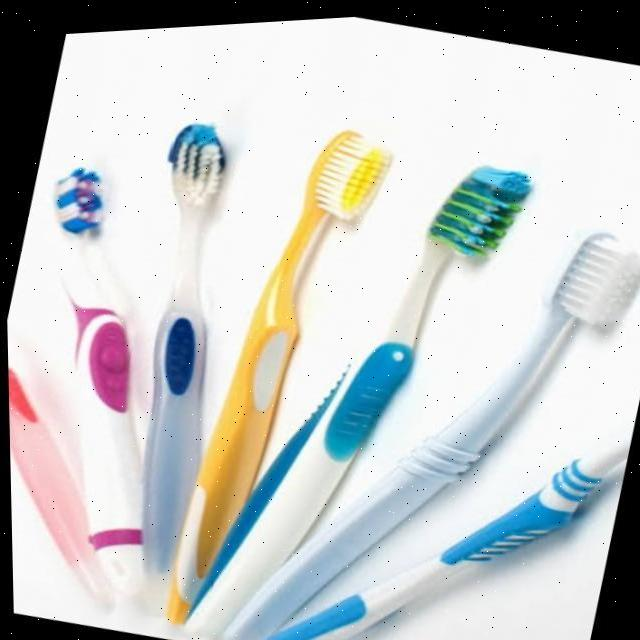toothbrush: (221, 222, 640, 640), (180, 154, 537, 640), (166, 122, 392, 620), (261, 429, 627, 640), (46, 157, 148, 624), (140, 112, 224, 626), (5, 354, 116, 608)
